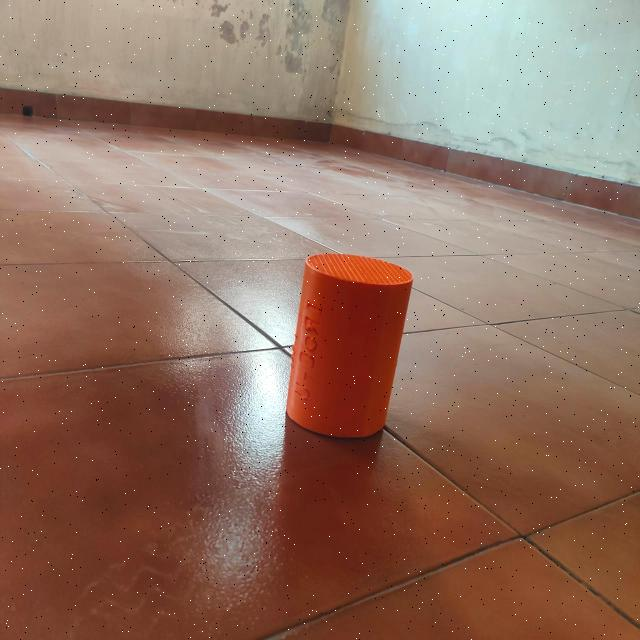Cylinder: (286, 252, 414, 439)
